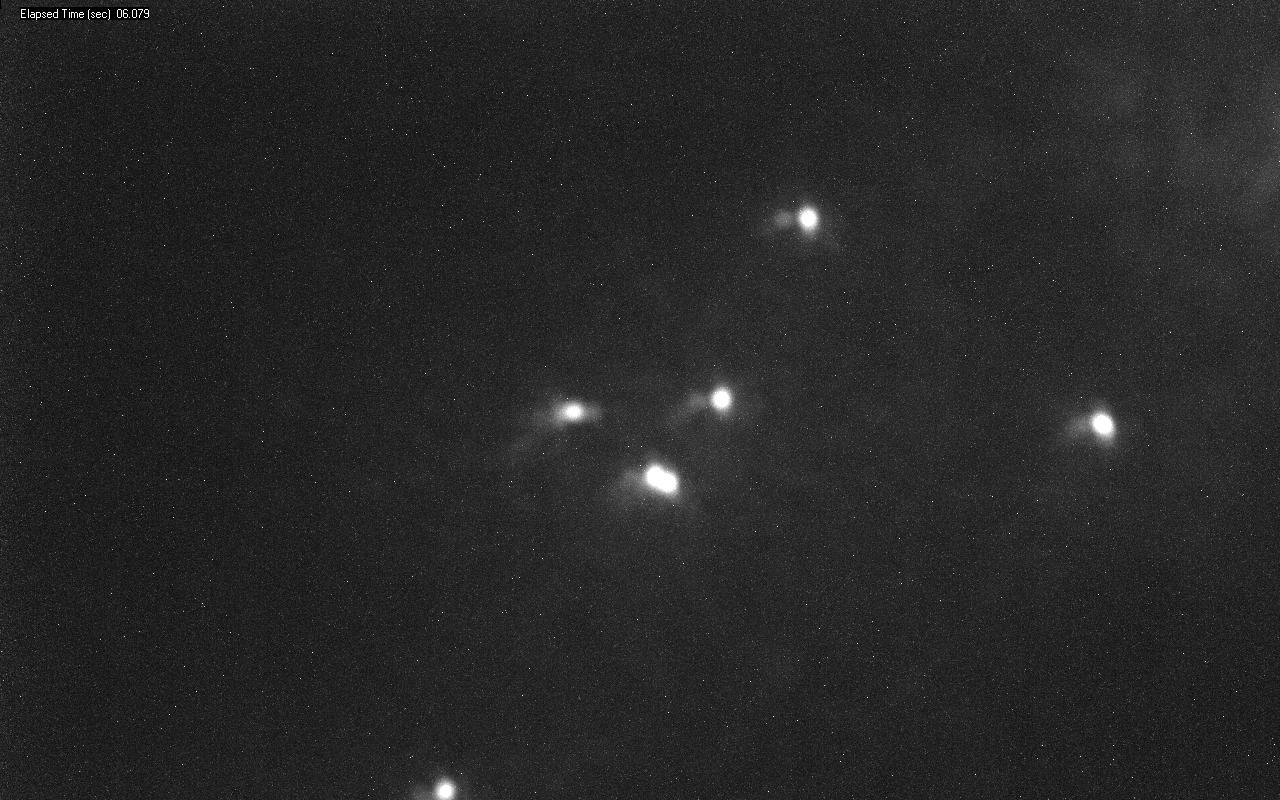Bead: (795, 206, 819, 234), (1090, 412, 1113, 439), (557, 403, 586, 422), (709, 387, 731, 410)
